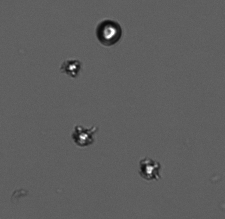Living Cell: (96, 20, 122, 46), (139, 159, 161, 180), (73, 127, 94, 147), (64, 61, 79, 76)
